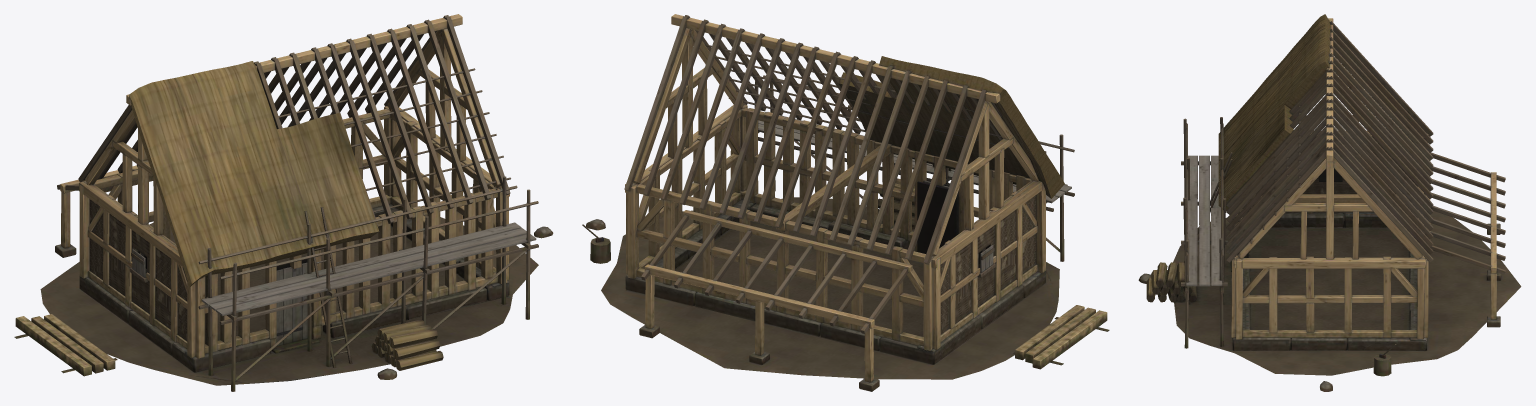
The model's file is house_b_build2.glb.
3 views of the same model, side by side, from view 1: azimuth 30°, elevation 25°; view 2: azimuth 150°, elevation 25°; view 3: azimuth 270°, elevation 25° (orthographic). The views are drawn at different scales.
Visible parts, largest first — view 1: house_b_build2_LOD0; view 2: house_b_build2_LOD0; view 3: house_b_build2_LOD0.
Part boxes in pixels (bbox=[...]): house_b_build2_LOD0: bbox=[14, 14, 553, 391]; house_b_build2_LOD0: bbox=[582, 14, 1109, 391]; house_b_build2_LOD0: bbox=[1138, 14, 1521, 391].
Size of what is drawn, in the model's own units: 13.22 by 6.12 by 10.16.
Materials: 1 (1 with a texture image).
